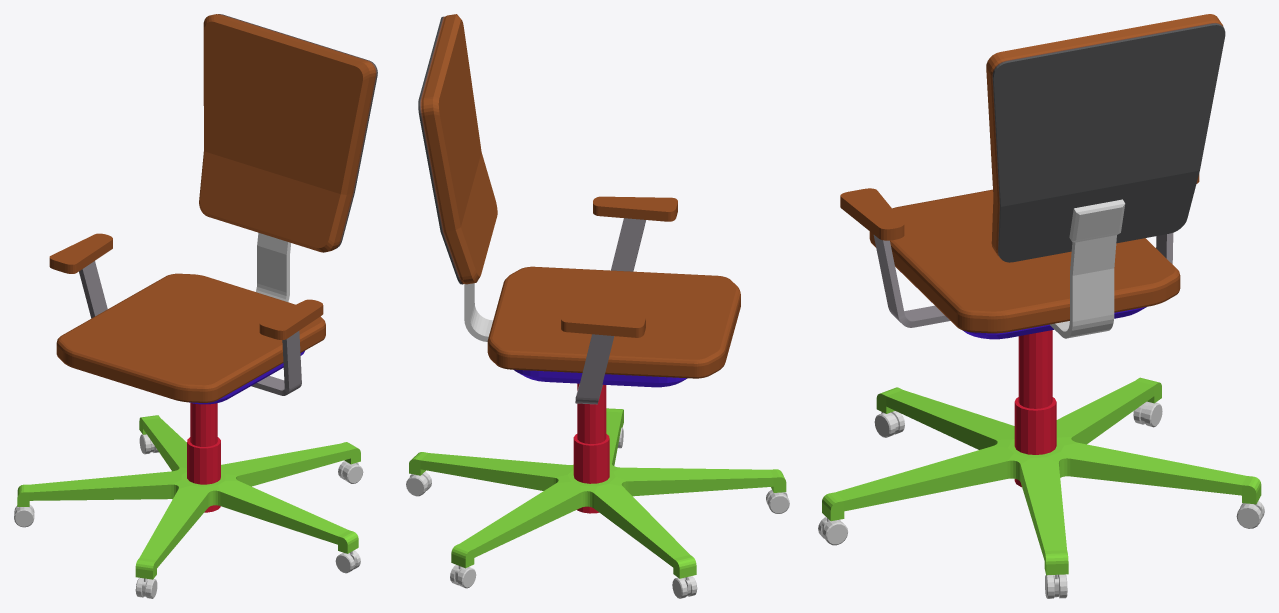
File: chair_low.fbx
3 renders of one model, left to right at view 1: azimuth 30°, elevation 25°; view 2: azimuth 150°, elevation 25°; view 3: azimuth 270°, elevation 25°, orthographic. The views are drawn at different scales.
Visible parts, largest first — view 1: Cross_low, Back_low, Wheels_low; view 2: Cross_low, Back_low, Wheels_low; view 3: Cross_low, Back_low, Wheels_low.
Part boxes in pixels (x1,y1,x2,y2): Cross_low: (17, 233, 360, 579); Back_low: (199, 14, 377, 301); Wheels_low: (14, 434, 363, 598); Cross_low: (409, 196, 786, 578); Back_low: (418, 14, 497, 341); Wheels_low: (406, 427, 789, 598); Cross_low: (822, 174, 1261, 575); Back_low: (986, 14, 1225, 338); Wheels_low: (818, 401, 1264, 598).
Bounding box in the file's own units: 84.26 × 114 × 85.97.
